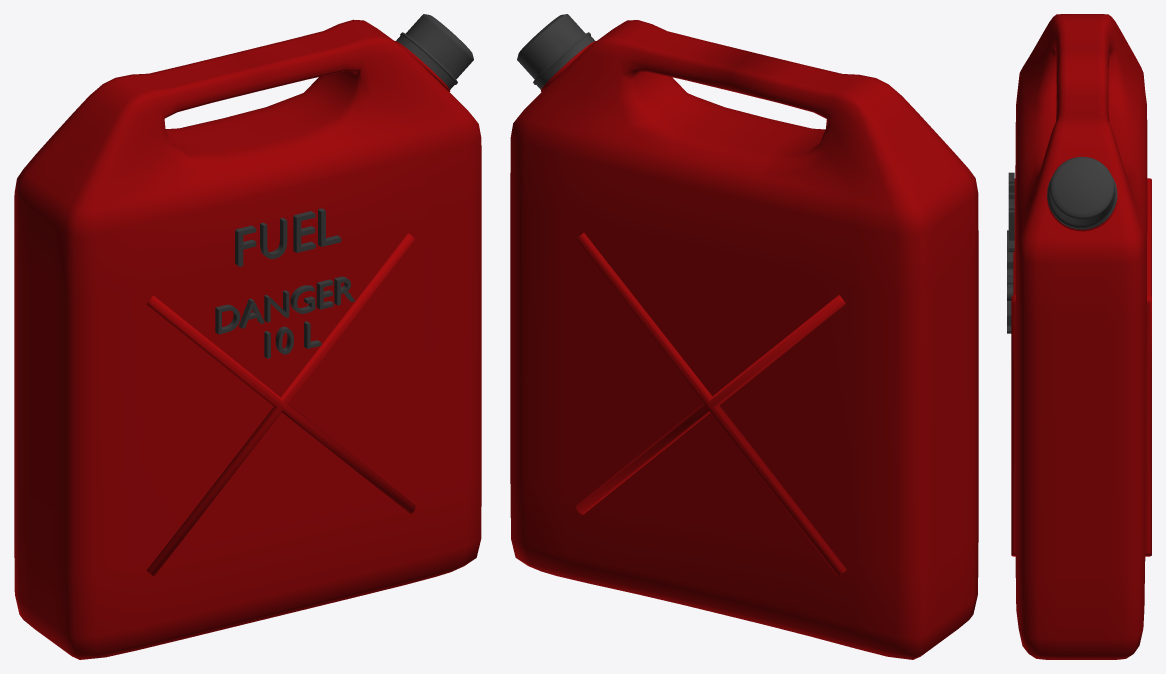
File: fuel tank.fbx
3 views of the same model, side by side, from view 1: azimuth 30°, elevation 25°; view 2: azimuth 150°, elevation 25°; view 3: azimuth 270°, elevation 25° (orthographic). The views are drawn at different scales.
Visible parts, largest first — view 1: tank_01; view 2: tank_01; view 3: tank_01.
Part boxes in pixels (x1,y1,x2,y2): tank_01: [14, 14, 481, 659]; tank_01: [510, 14, 978, 659]; tank_01: [1007, 14, 1151, 659].
Size of the model in its own units: 57.53 by 70.43 by 18.11.
Materials: 1 (1 with a texture image).
